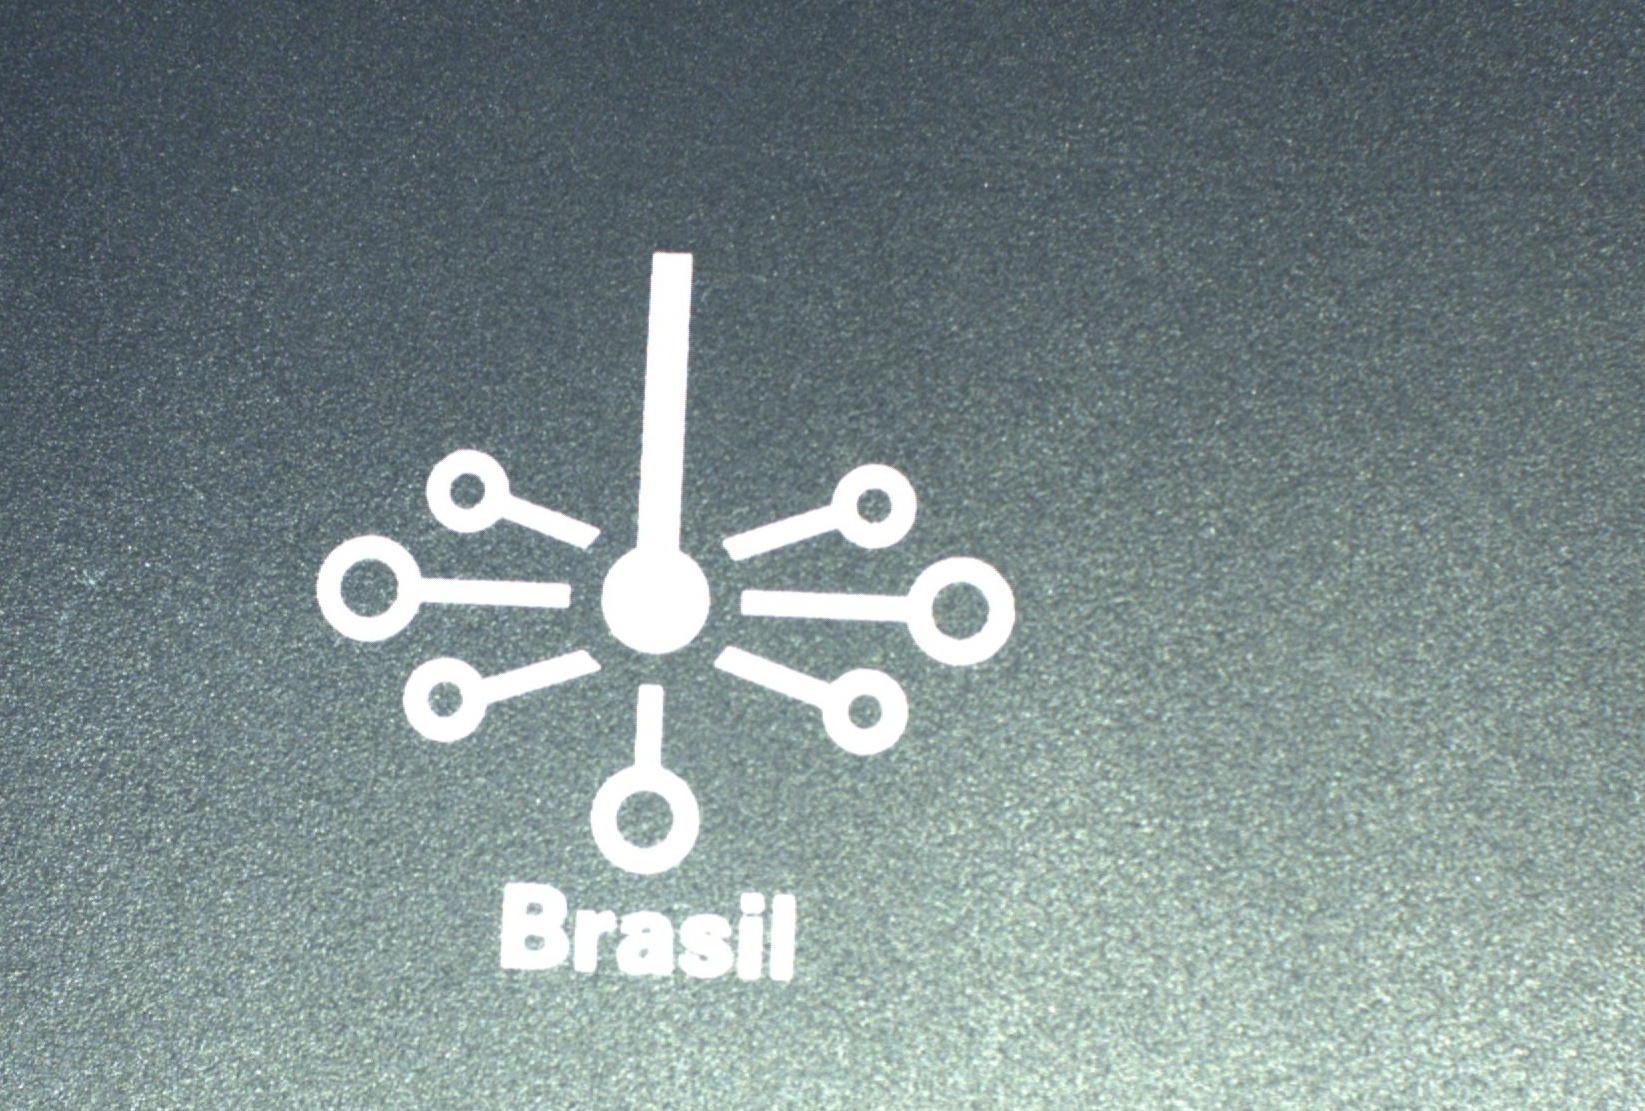BO_Brsail: (298, 243, 1025, 988)
